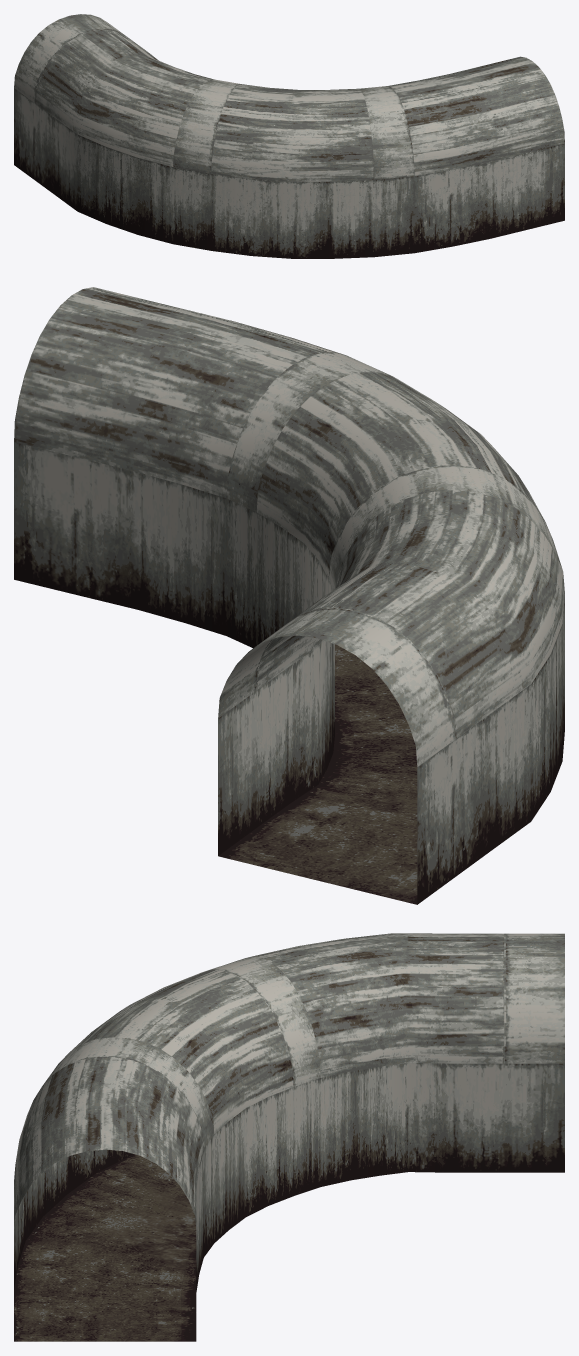
Rendered from SM_EC_ConcreteTunnel_Bend_0.fbx.
The picture shows the model from 3 angles, top to bottom: view 1: azimuth 30°, elevation 25°; view 2: azimuth 150°, elevation 25°; view 3: azimuth 270°, elevation 25°; orthographic projection. The views are drawn at different scales.
Visible parts, largest first — view 1: SM_EC_ConcreteTunnel_Bend_0; view 2: SM_EC_ConcreteTunnel_Bend_0; view 3: SM_EC_ConcreteTunnel_Bend_0.
Boxes of the visible parts, x1=… form: SM_EC_ConcreteTunnel_Bend_0: x1=14, y1=14, x2=564, y2=258; SM_EC_ConcreteTunnel_Bend_0: x1=14, y1=287, x2=564, y2=904; SM_EC_ConcreteTunnel_Bend_0: x1=14, y1=933, x2=564, y2=1341.
Bounding box in the file's own units: 9.57 × 9.06 × 3.48.
